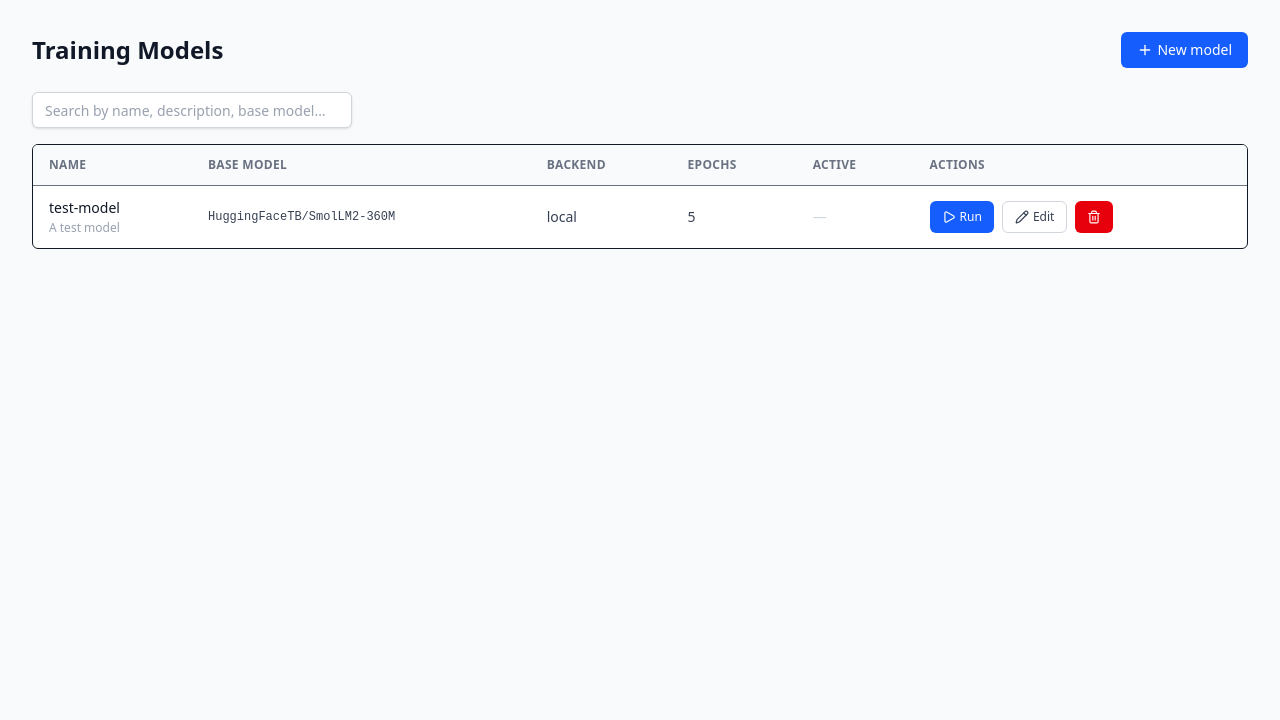
Test: ModelsListPage › opens RunModal when Run button is clicked
Check: the text "test-model" is shown, box left=49, top=198, right=120, bottom=217
Click the button "Run" at (962, 217), box left=930, top=201, right=994, bottom=233
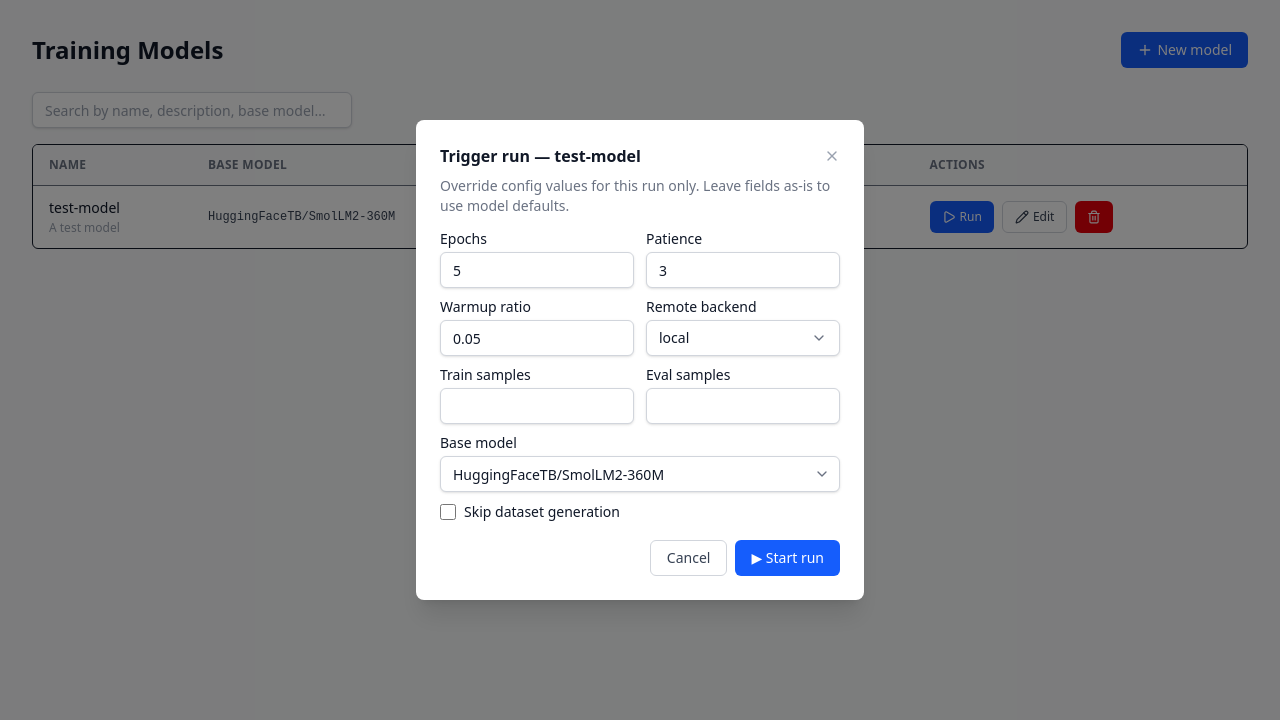
Check: the dialog is shown, box left=416, top=120, right=864, bottom=600
